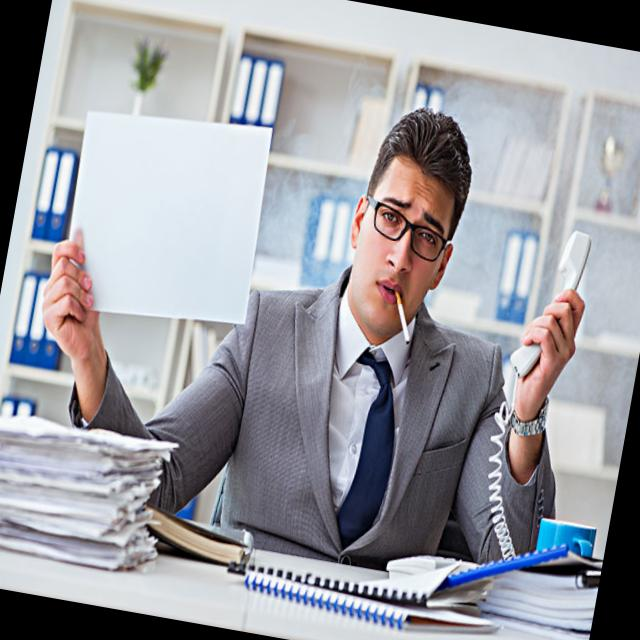cigarette: (386, 290, 421, 346)
